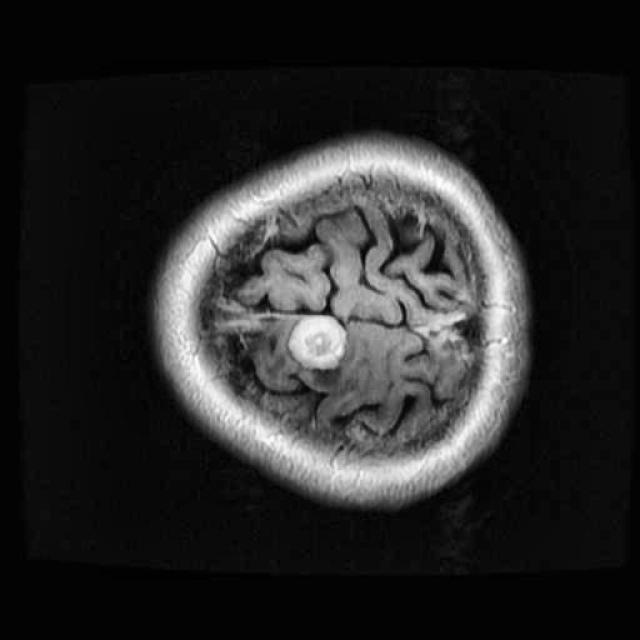Tumor: (278, 306, 351, 382)
